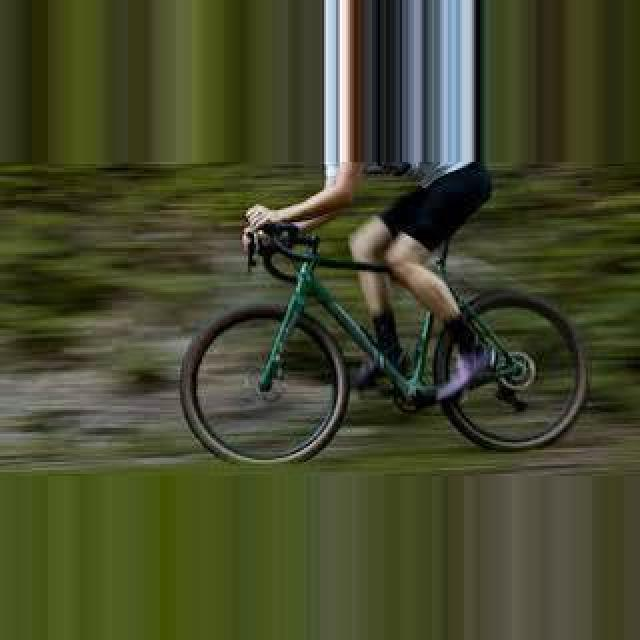MC-Bike: (296, 160, 502, 400)
Person: (178, 208, 592, 466)
